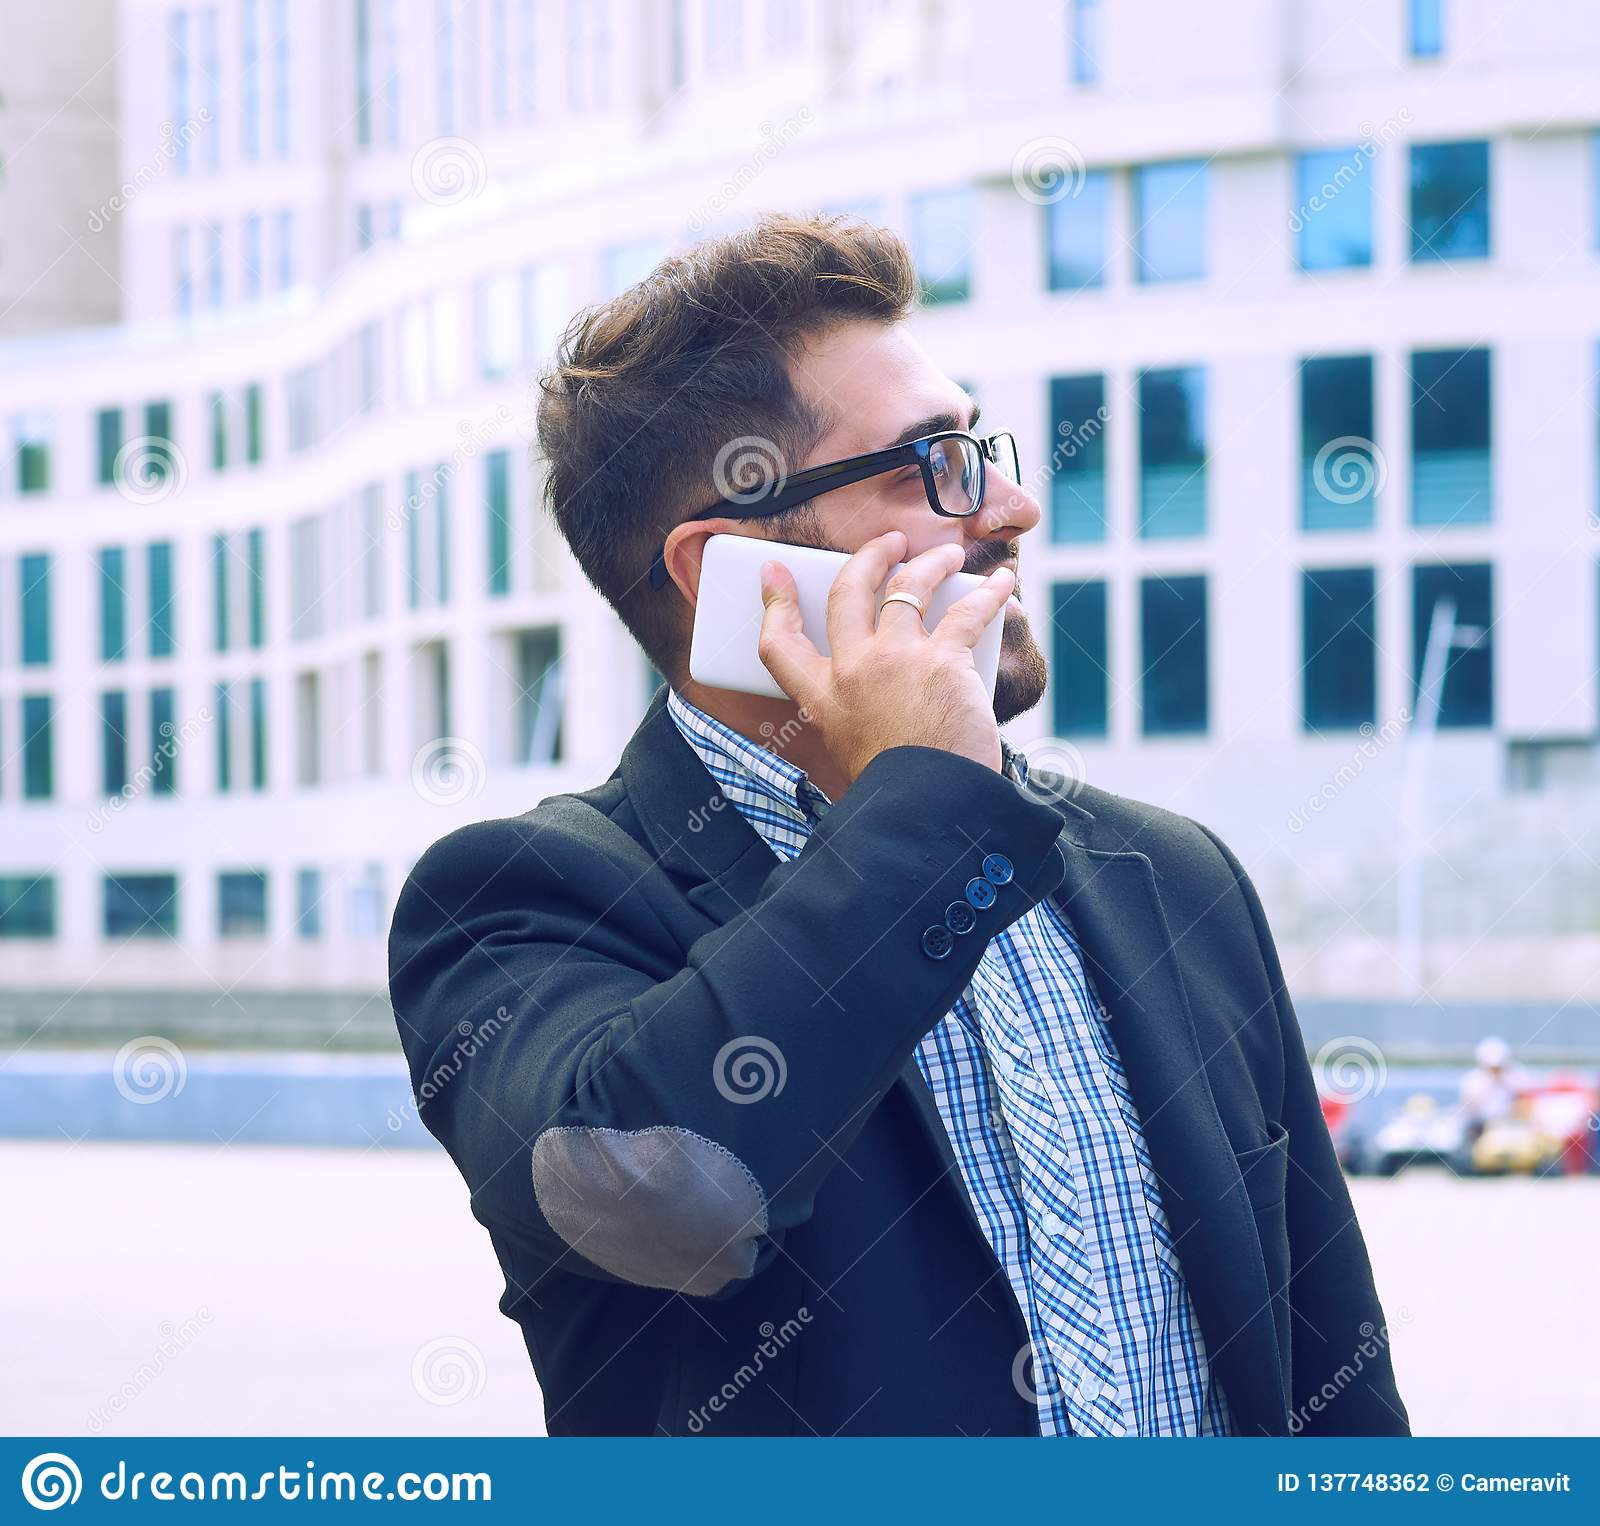phone: (689, 533, 1009, 714)
talk: (681, 399, 1043, 814)
